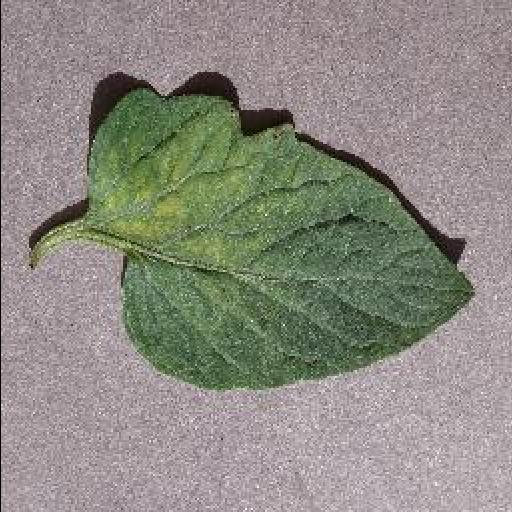disease_tomato: (86, 88, 476, 392)
